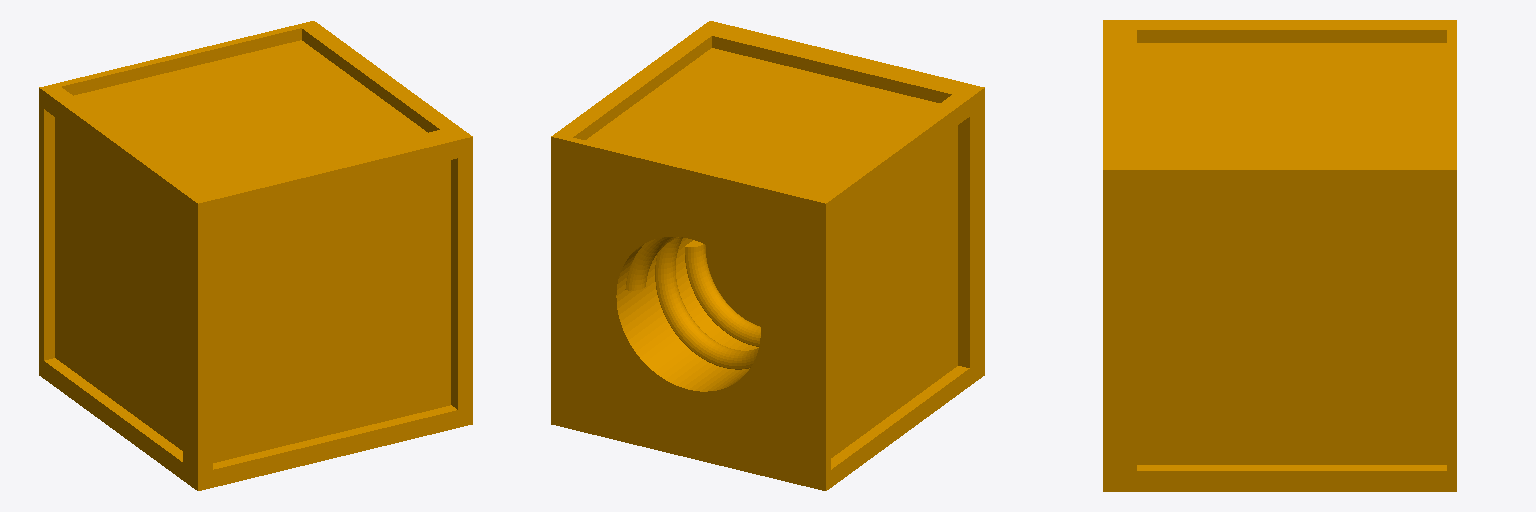
The robot description file, URDF, robot "chair_nut2":
<?xml version="1.0"?>
<robot name="chair_nut2">
    <link name="chair_nut2">
        <visual>
            <geometry>
                <mesh filename="../../mesh/chair/chair_nut2.obj" scale="1 1 1"/>
            </geometry>
        </visual>
        <collision>
            <geometry>
                <mesh filename="../../mesh/chair/chair_nut2.obj" scale="1 1 1"/>
            </geometry>
            <sdf resolution="512"/>
        </collision>
        <!-- <inertial>
            <mass value="1."/>
            <inertia ixx="0.0001" ixy="0.0" ixz="0.0" iyy="0.0001" iyz="0.0" izz="0.0001"/>
        </inertial> -->
    </link>
</robot>

--- Render facts (derived) ---
The picture shows the robot from 3 angles, left to right: view 1: azimuth 30°, elevation 25°; view 2: azimuth 150°, elevation 25°; view 3: azimuth 270°, elevation 25°; orthographic projection.
Robot: chair_nut2 — 1 links, 0 joints (none); root link chair_nut2; default pose: all joints at 0.
Visible links, largest first — view 1: chair_nut2; view 2: chair_nut2; view 3: chair_nut2.
Link boxes in pixels (<box>): chair_nut2: <box>39,21,472,490</box>; chair_nut2: <box>551,21,984,490</box>; chair_nut2: <box>1103,20,1456,491</box>.
Bounding box of the posed robot: 0.03 × 0.03 × 0.03 m (x, y, z).
Meshes: 1 distinct files referenced, 1 mesh visuals loaded (1 OBJ).